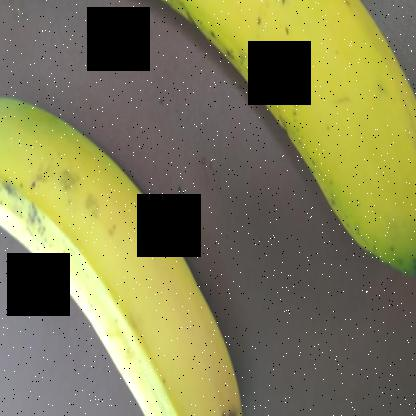freshripe: (0, 97, 258, 415)
ripe: (164, 1, 416, 286)
